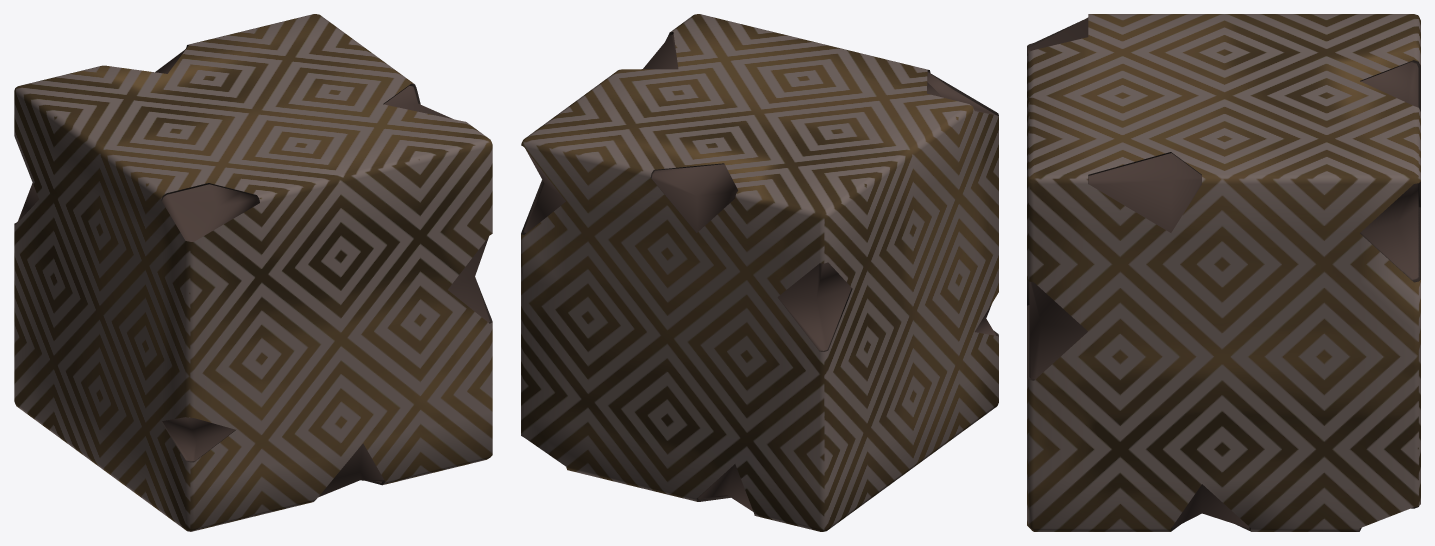
Rendered from Indvidual_Cube_Geo.fbx.
3 renders of one model, left to right at view 1: azimuth 30°, elevation 25°; view 2: azimuth 150°, elevation 25°; view 3: azimuth 270°, elevation 25°, orthographic. The views are drawn at different scales.
Parts seen in each view (by area): view 1: Cube_Final_Geo.010; view 2: Cube_Final_Geo.010; view 3: Cube_Final_Geo.010.
Part boxes in pixels (<box>): Cube_Final_Geo.010: <box>14,14,492,531</box>; Cube_Final_Geo.010: <box>521,14,998,531</box>; Cube_Final_Geo.010: <box>1027,14,1420,531</box>.
Bounding box in the file's own units: 300 × 300 × 300.
